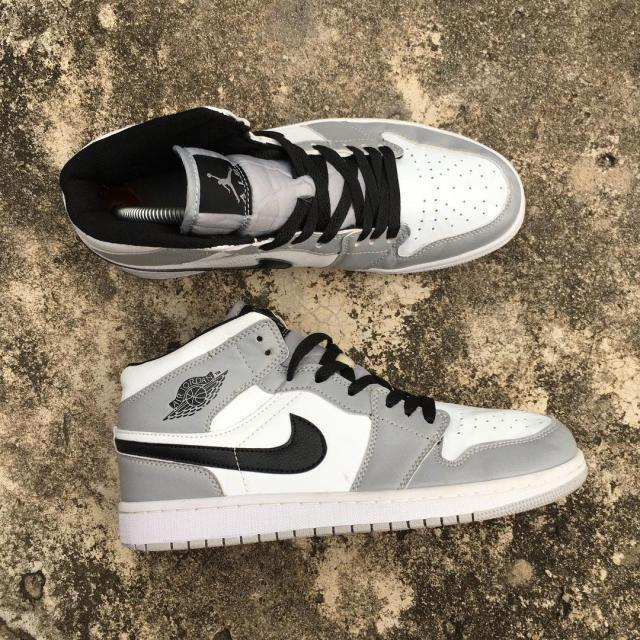nike fake jordan 1: (112, 308, 583, 556), (62, 107, 532, 276)
